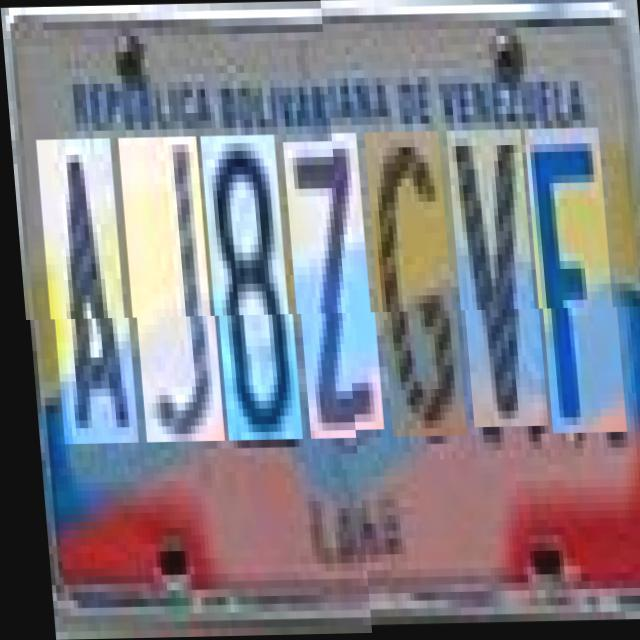8: (201, 136, 295, 442)
A: (37, 138, 131, 444)
F: (526, 138, 620, 444)
G: (366, 140, 461, 447)
J: (119, 137, 217, 443)
V: (448, 139, 542, 437)
Z: (284, 142, 378, 440)
